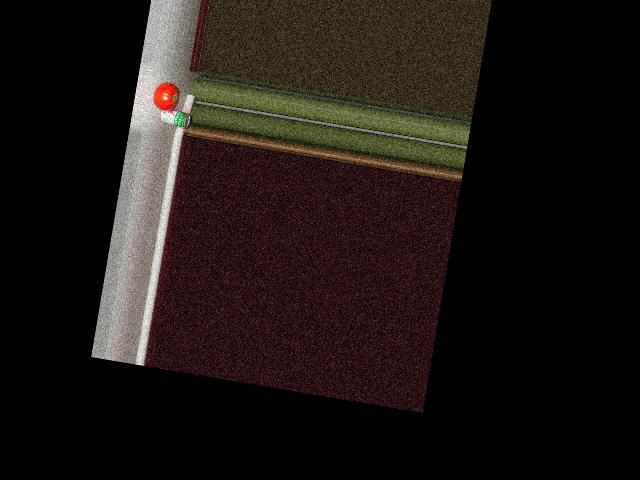tomato: (151, 80, 179, 111)
